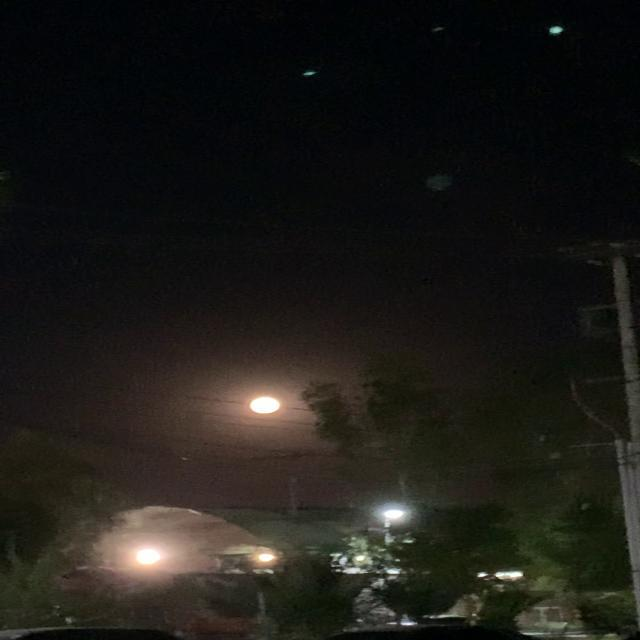moon: (234, 390, 286, 416)
